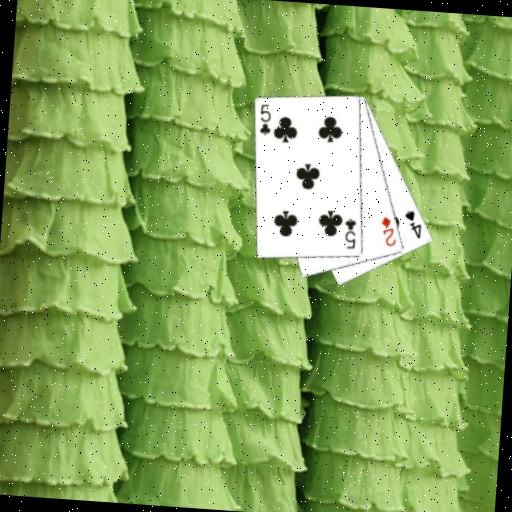2D: (377, 213, 399, 248)
4S: (401, 208, 425, 241)
5C: (256, 102, 274, 138), (341, 216, 359, 251)
